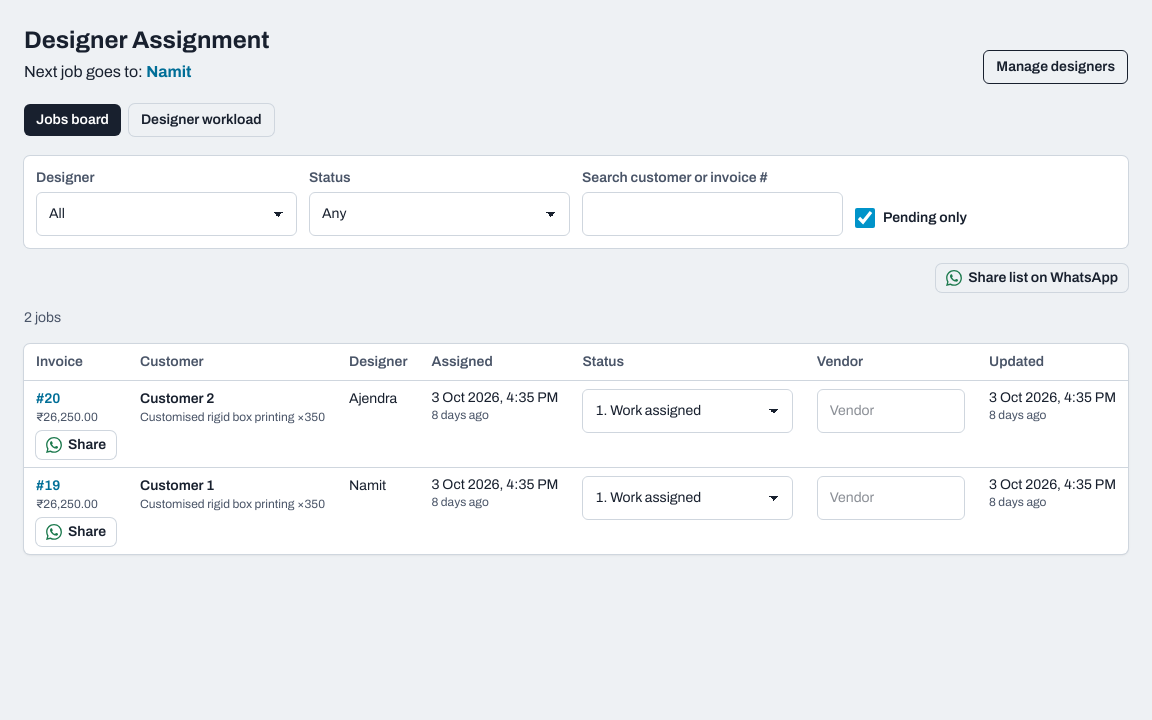
Designer Assignment tab › a failed status save goes back and says so
The width and height of the screenshot is (1152, 720).
Select "3. Approval received" in the dropdown named "Progress of invoice #20" at {"x": 688, "y": 411}, box x1=582 y1=389 x2=793 y2=433
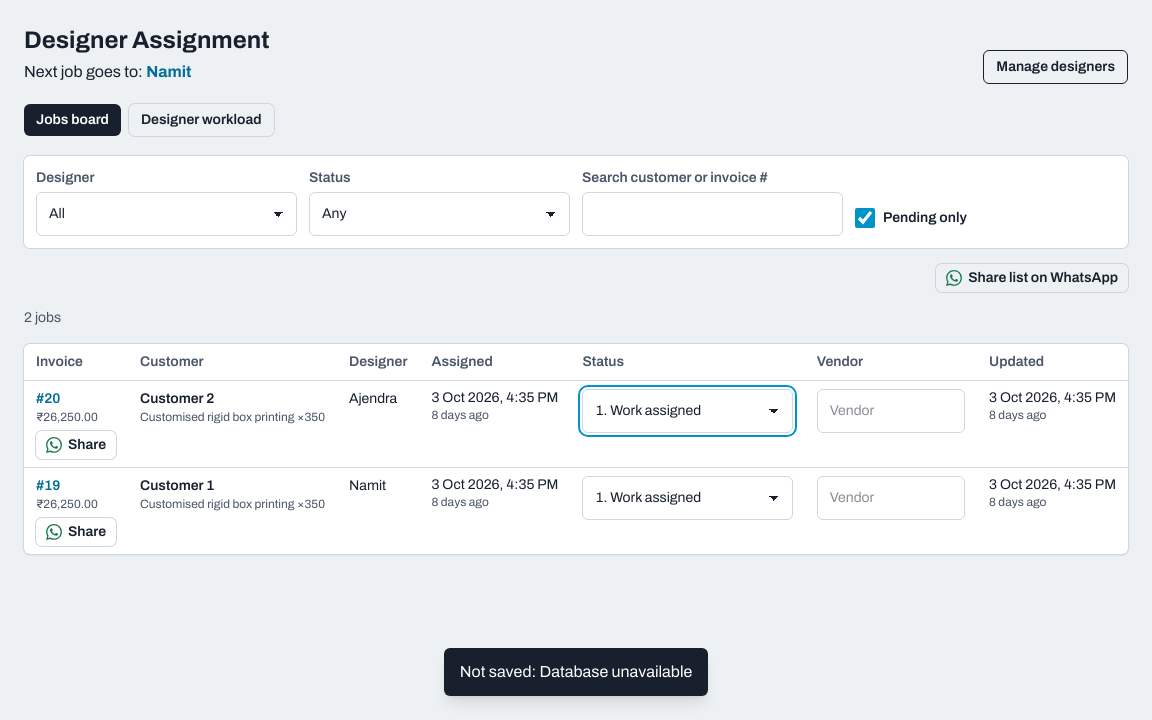
Expected: the text "Not saved: Database unavailable" is shown, x1=460 y1=660 x2=692 y2=684
